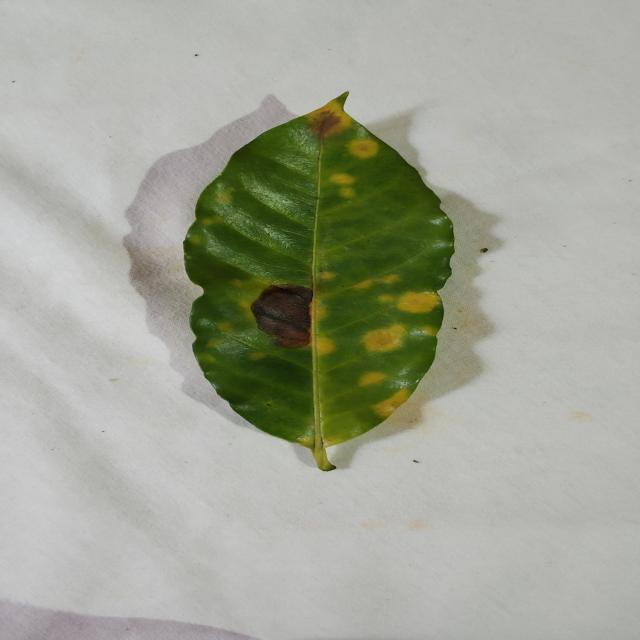Enfermedad-Roya: (182, 95, 457, 473)
